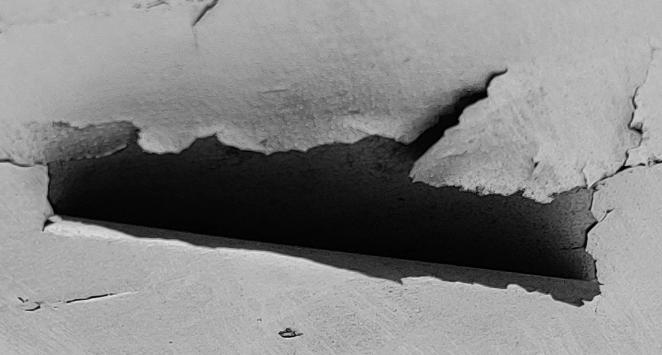paint-off: (0, 1, 662, 355)
